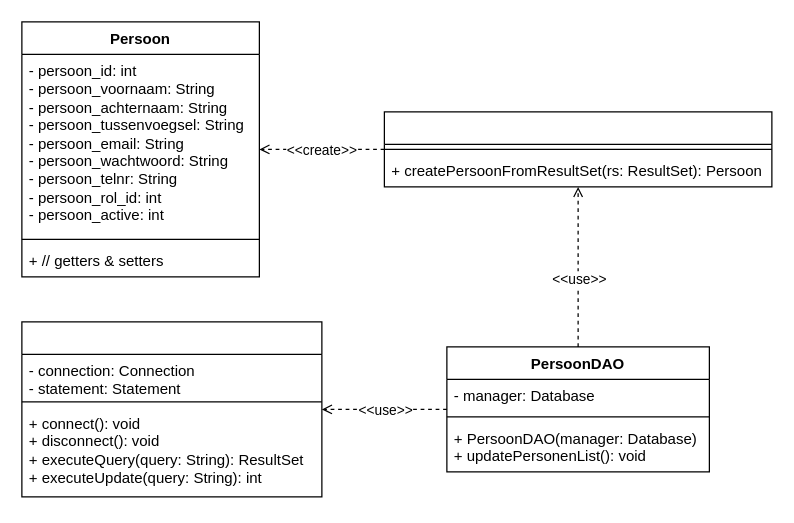
Some shapes in this 794 by 523 pixel diagram are drawn without their labels. Each missing label, with the box of its shape:
Database: (21, 321, 322, 497)
PersoonFactory: (383, 111, 772, 187)
